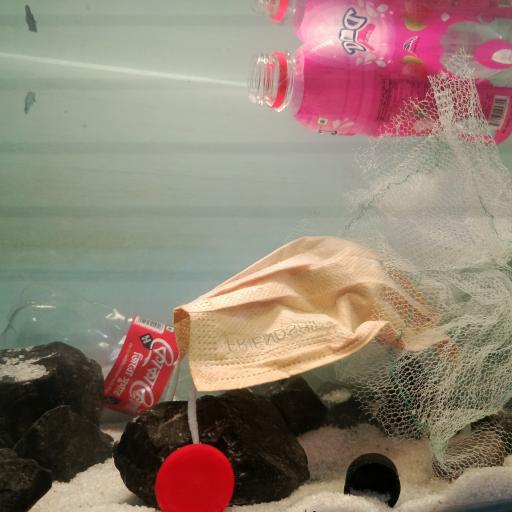bottle_cap: (155, 442, 236, 512), (343, 452, 401, 508)
mask: (172, 234, 468, 416)
net: (337, 47, 512, 480)
plastic_bottle: (1, 279, 225, 415), (248, 36, 512, 143)
